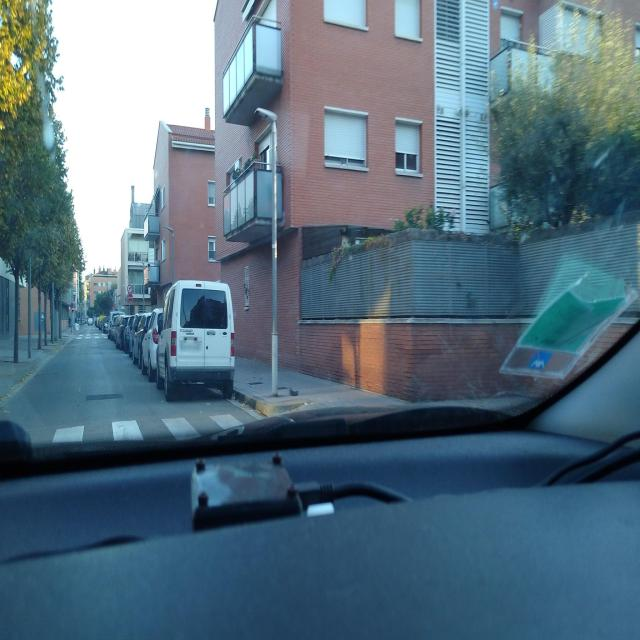car: (156, 279, 236, 400), (140, 308, 164, 379), (131, 311, 151, 366), (122, 314, 139, 354), (107, 309, 125, 340), (114, 318, 126, 348)
